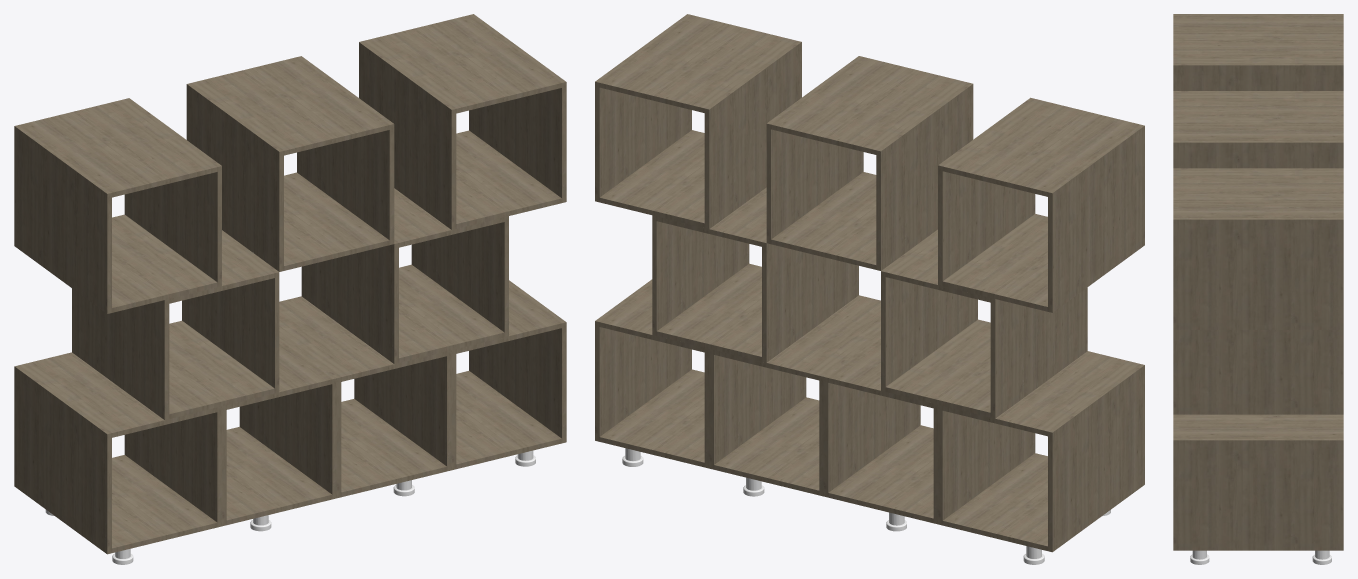
3 views of the same model, side by side, from view 1: azimuth 30°, elevation 25°; view 2: azimuth 150°, elevation 25°; view 3: azimuth 270°, elevation 25° (orthographic). The views are drawn at different scales.
Parts seen in each view (by area): view 1: Box008, Box009, Box006, Box004, Box007, Box005, Box002, Box001, Box003; view 2: Box008, Box009, Box006, Box004, Box007, Box005, Box002, Box001, Box003; view 3: Box006, Box001, Box005, Box009, Box008, Cylinder012, Cylinder011.
Boxes of the visible parts, x1,y1,x2,y2 form: Box008: (14, 98, 221, 313); Box009: (186, 56, 394, 271); Box006: (359, 14, 566, 229); Box004: (14, 352, 221, 554); Box007: (72, 230, 279, 419); Box005: (301, 188, 508, 363); Box002: (279, 296, 451, 498); Box001: (451, 280, 566, 470); Box003: (222, 336, 336, 526); Box008: (938, 97, 1144, 312); Box009: (766, 56, 973, 270); Box006: (595, 14, 801, 229); Box004: (938, 351, 1144, 552); Box007: (881, 229, 1087, 418); Box005: (652, 187, 858, 362); Box002: (709, 295, 880, 496); Box001: (595, 279, 709, 468); Box003: (823, 335, 937, 524); Box006: (1173, 168, 1343, 329); Box001: (1173, 414, 1343, 550); Box005: (1173, 330, 1343, 414); Box009: (1173, 91, 1343, 168); Box008: (1173, 14, 1343, 90); Cylinder012: (1312, 550, 1331, 564); Cylinder011: (1190, 550, 1209, 564).
Size of the model in its own units: 2 by 1.6 by 0.7.
2 materials, 1 textured.
